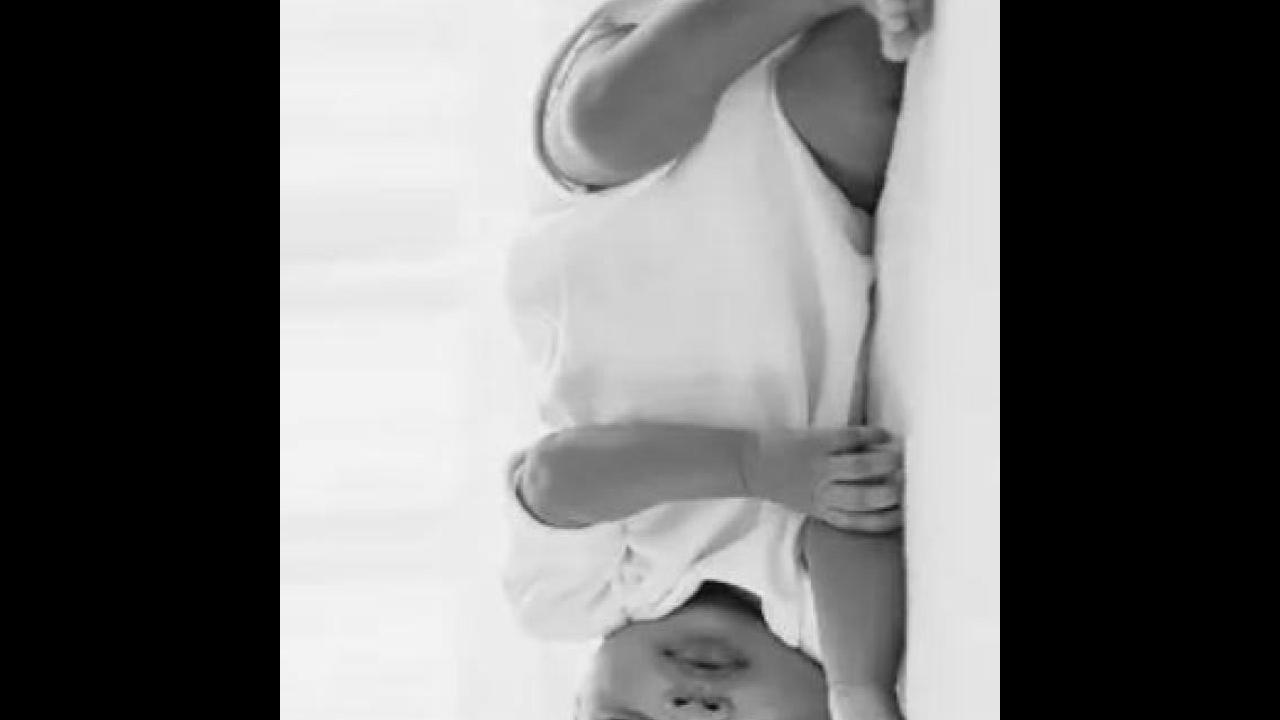hand: (756, 412, 908, 536), (822, 676, 909, 720)
